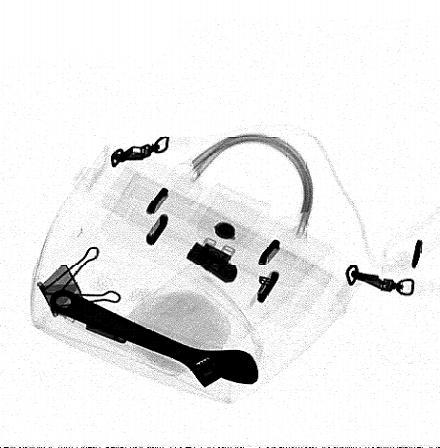Wrench: (46, 288, 260, 389)
